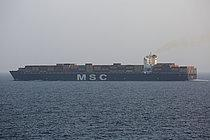Ship: (4, 57, 202, 85)
